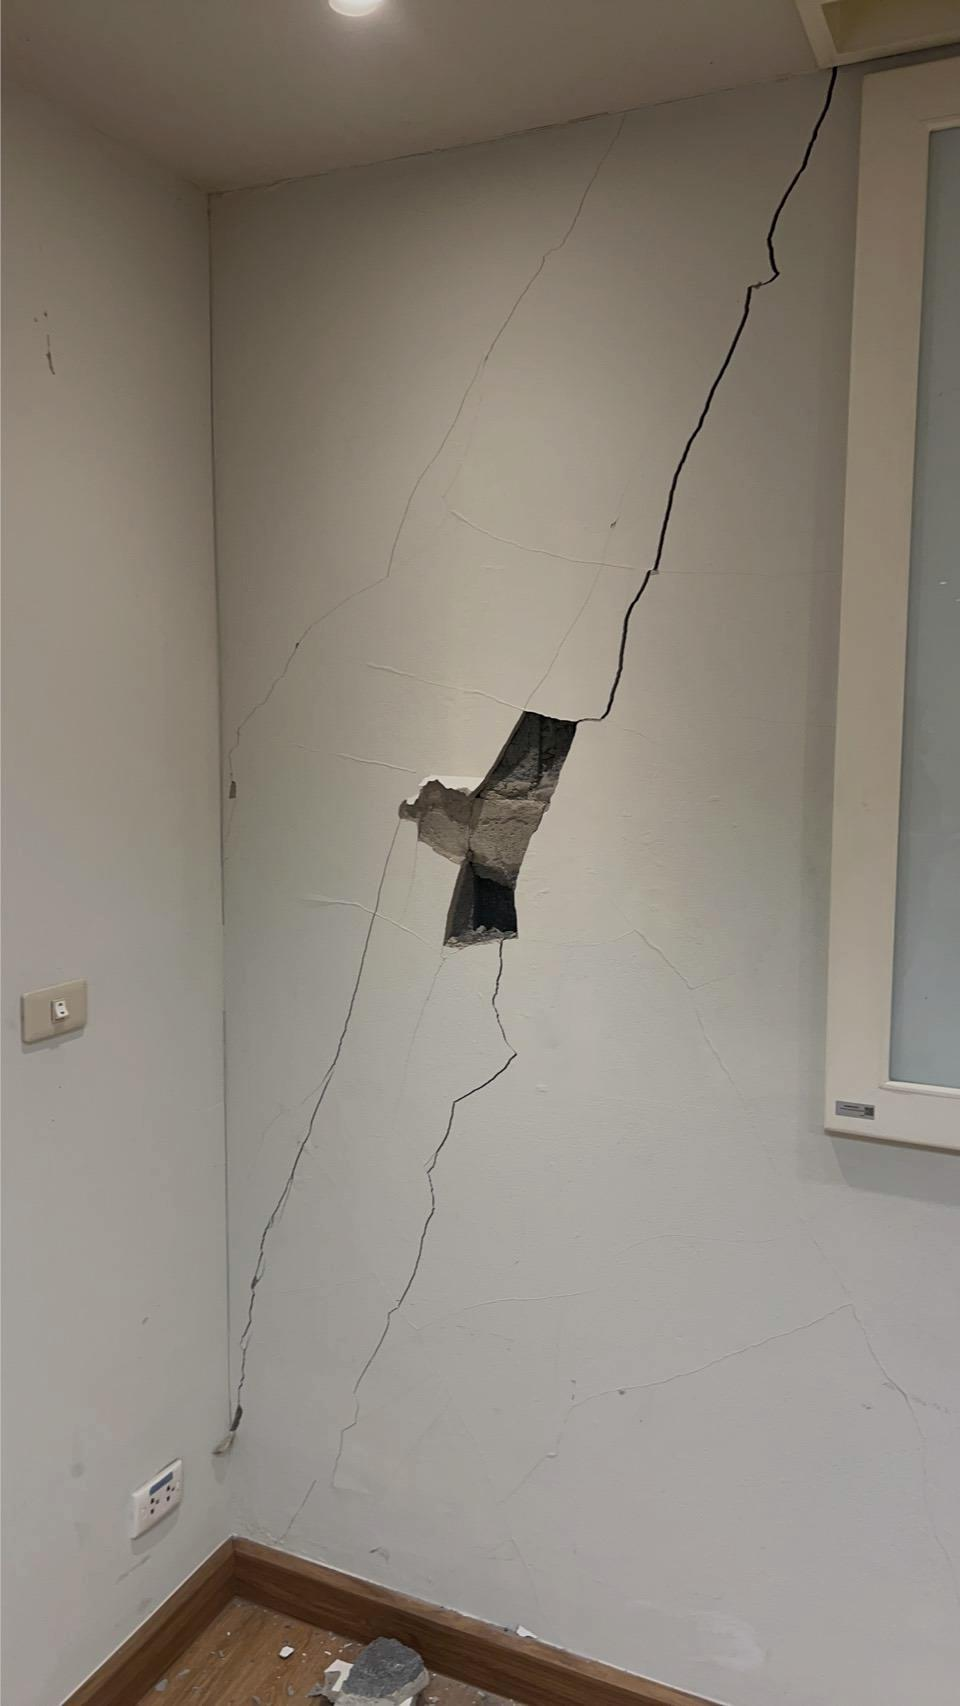High: (178, 66, 851, 1581)
